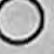no answer: (0, 0, 44, 47)
